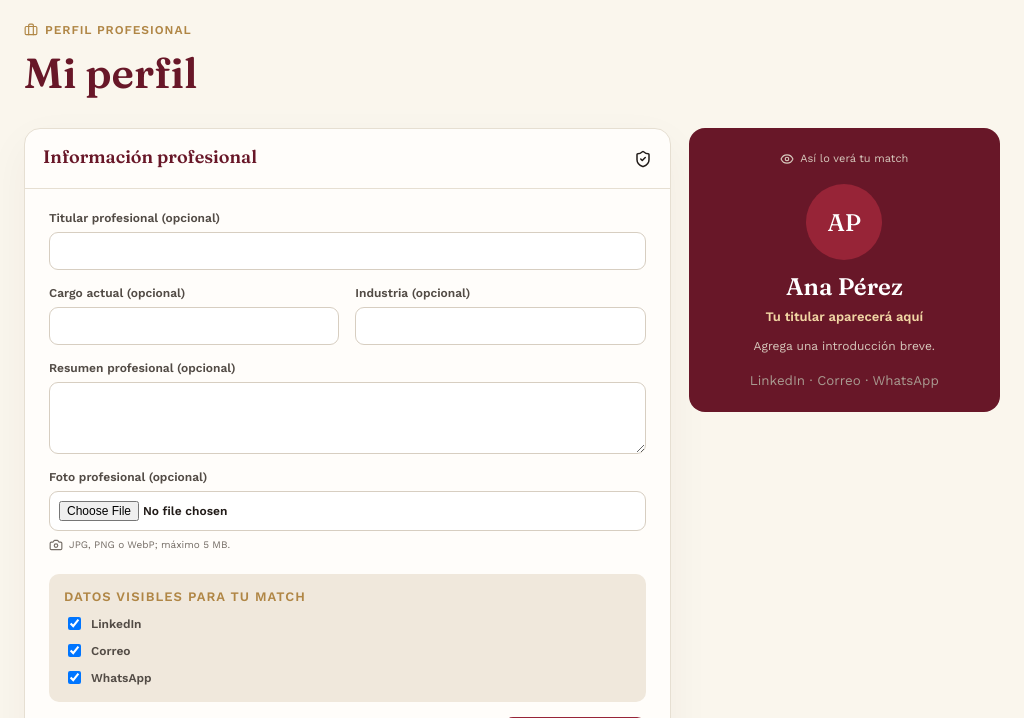
Test case: ProfilePanel · modo remoto (usuario real autenticado) › carga el perfil vía profiles.select y guarda con profiles.update
Check: the heading "Ana Pérez" is shown, box left=786, top=272, right=903, bottom=301
Type "Product Manager" into the field labelled "Titular profesional (opcional)". click: (347, 251)
box: left=49, top=232, right=646, bottom=270
(page scrolled)
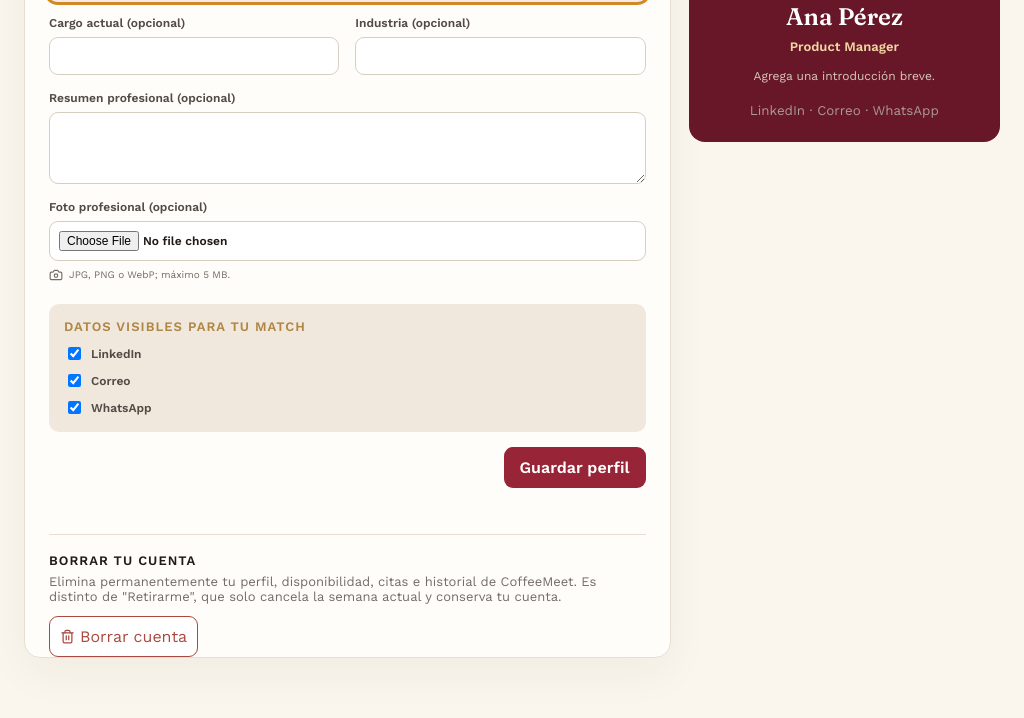
Click the button "Guardar perfil". click: (575, 468)
box: left=504, top=447, right=646, bottom=488
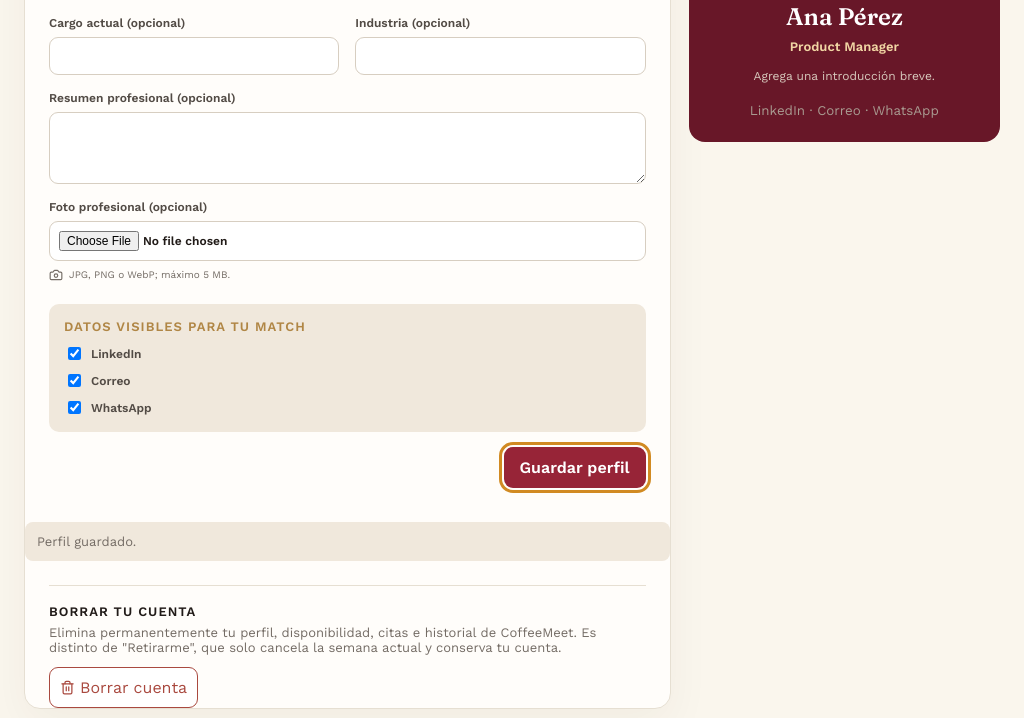
Check: the text "Perfil guardado." is shown, box left=25, top=522, right=670, bottom=561
